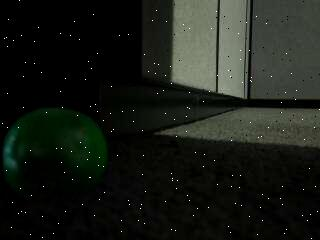Lime: (2, 108, 111, 203)
